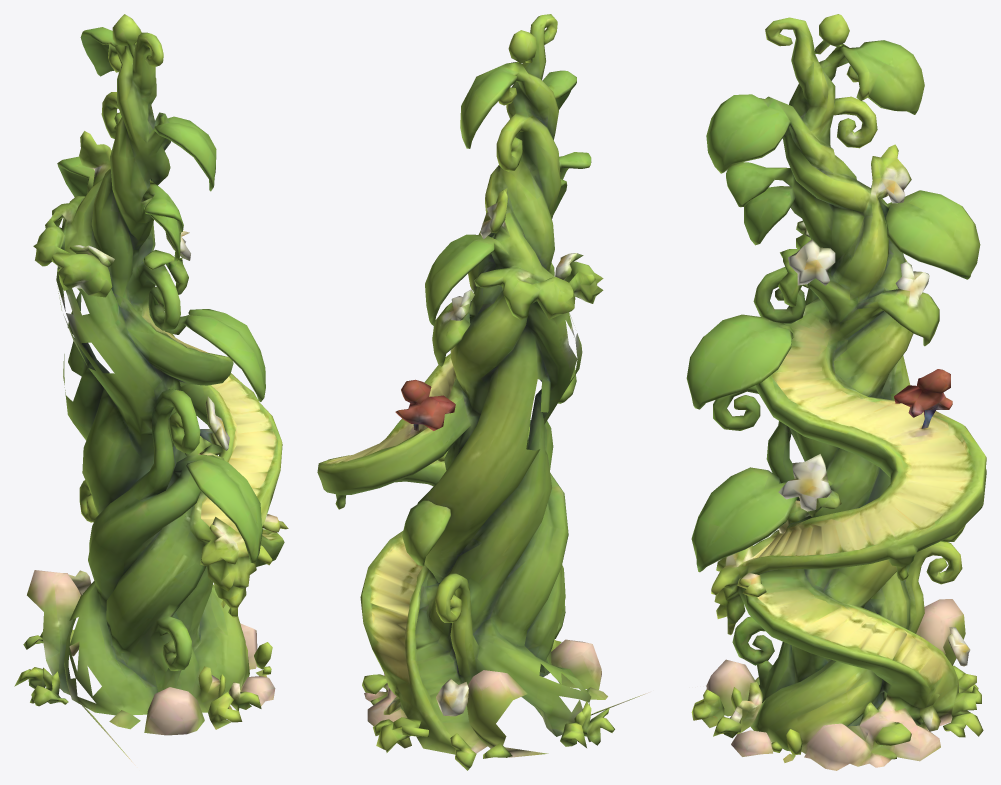
File: fasola_5.glb
3 views of the same model, side by side, from view 1: azimuth 30°, elevation 25°; view 2: azimuth 150°, elevation 25°; view 3: azimuth 270°, elevation 25° (orthographic). The views are drawn at different scales.
Parts seen in each view (by area): view 1: fasola_5; view 2: fasola_5; view 3: fasola_5.
Part boxes in pixels (<box>): fasola_5: <box>14,14,288,767</box>; fasola_5: <box>317,14,649,770</box>; fasola_5: <box>686,14,986,770</box>.
Bounding box in the file's own units: 0.3581 × 0.9315 × 0.362.
Materials: 1 (1 with a texture image).
